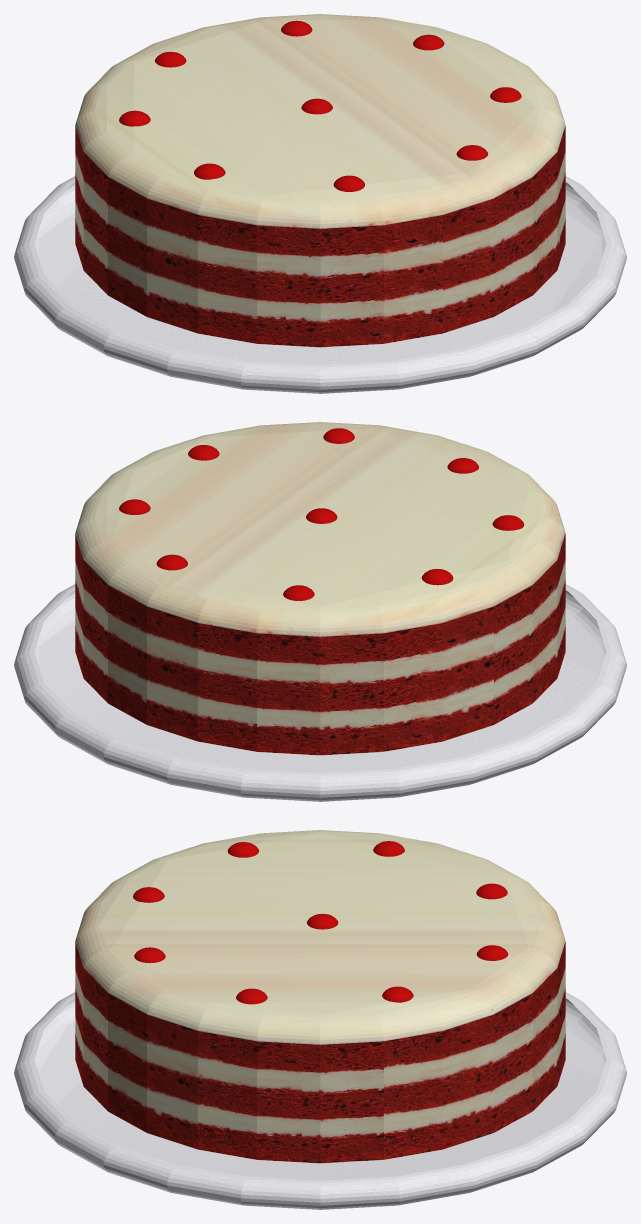
The model's file is torta-2.glb.
3 renders of one model, top to bottom at view 1: azimuth 30°, elevation 25°; view 2: azimuth 150°, elevation 25°; view 3: azimuth 270°, elevation 25°, orthographic.
Parts seen in each view (by area): view 1: SketchUp, SketchUp.002, SketchUp.003; view 2: SketchUp, SketchUp.002, SketchUp.003; view 3: SketchUp, SketchUp.002, SketchUp.003.
Part boxes in pixels (x1,y1,x2,y2): SketchUp: [75, 14, 565, 347]; SketchUp.002: [14, 176, 626, 393]; SketchUp.003: [119, 20, 521, 191]; SketchUp: [75, 422, 565, 755]; SketchUp.002: [14, 584, 626, 801]; SketchUp.003: [119, 428, 524, 600]; SketchUp: [75, 830, 565, 1163]; SketchUp.002: [14, 992, 626, 1209]; SketchUp.003: [133, 841, 508, 1004].
Bounding box in the file's own units: 0.2462 × 0.0751 × 0.2462.
Materials: 4 (2 with a texture image).
